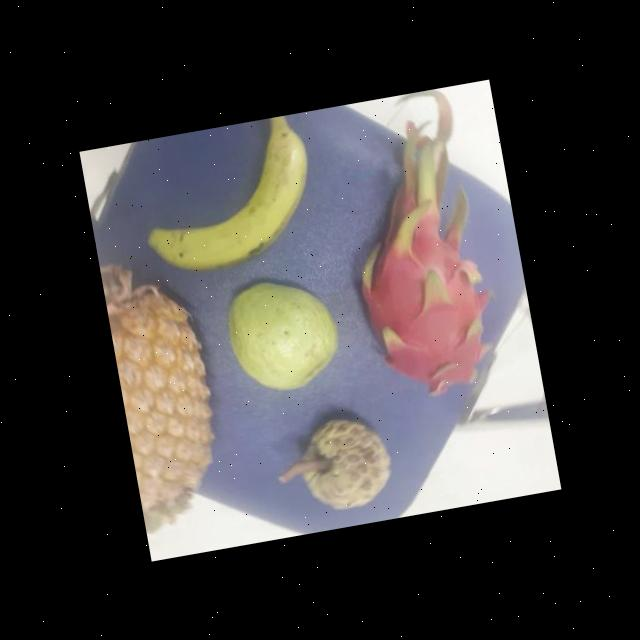Sakya fruit: (290, 407, 402, 514)
banana: (136, 116, 328, 279)
guava: (221, 270, 351, 399)
pitaya: (350, 206, 511, 401)
